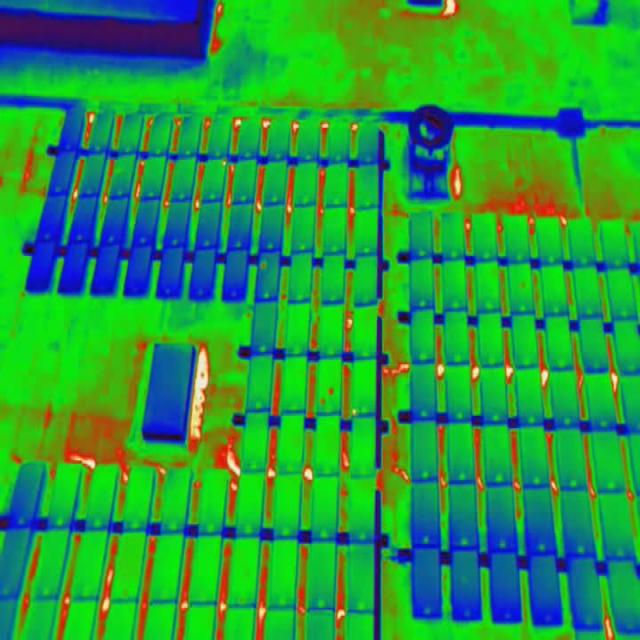Orange-Spots: (319, 397, 326, 406), (261, 261, 268, 270), (328, 387, 334, 397), (352, 408, 357, 416), (222, 161, 228, 167)
